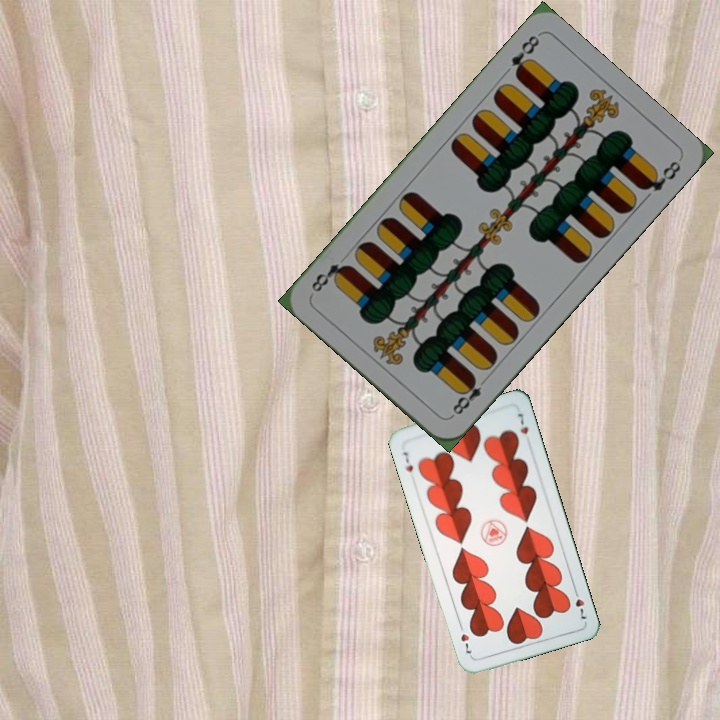E8: (446, 372, 491, 420), (507, 31, 542, 81)
H7: (570, 584, 590, 622), (399, 447, 416, 474)
